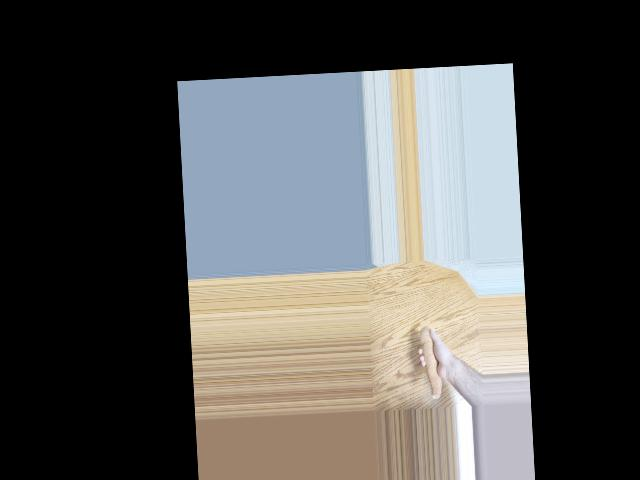sweet_potato: (416, 326, 444, 399)
